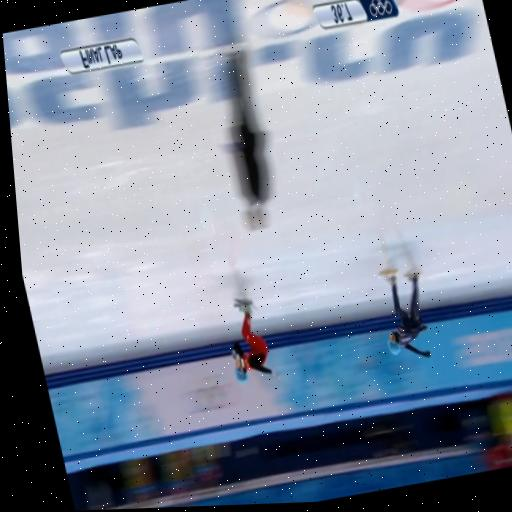Skater: (380, 269, 430, 356), (232, 300, 277, 381)
